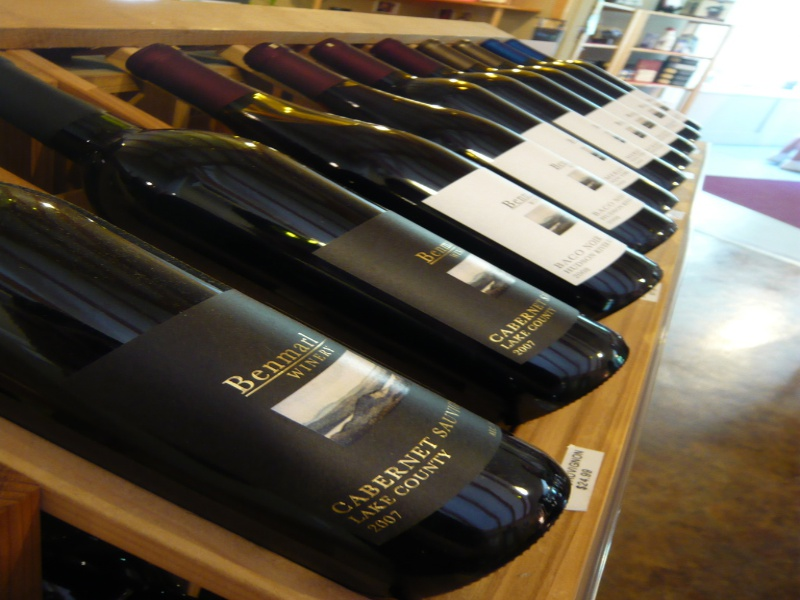wine: (1, 36, 705, 591)
